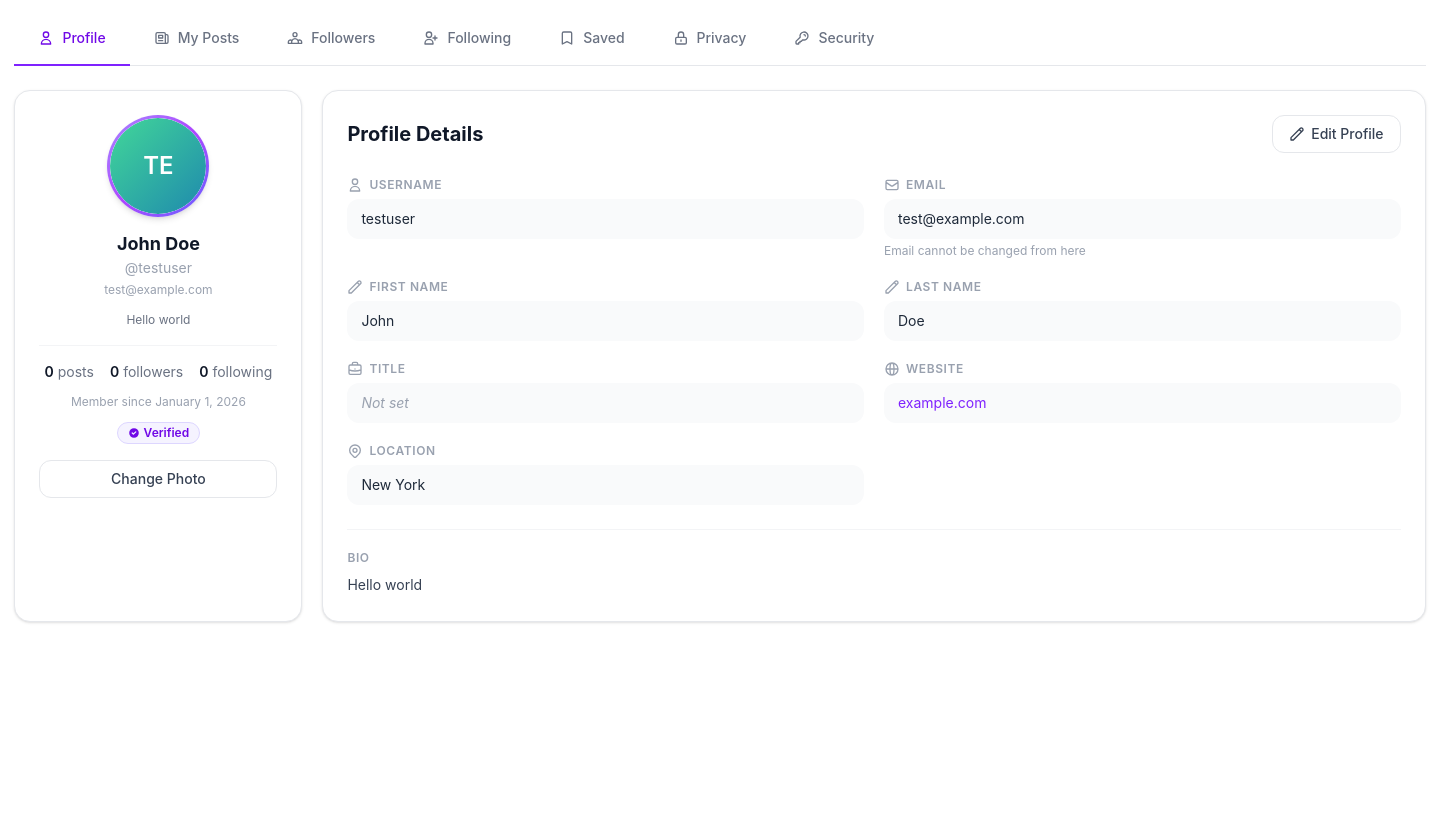
Test case: ProfilePage — own profile (/profile) › Cancel in edit form restores view mode
The image size is (1440, 822).
Click the button "Edit Profile" at (1336, 134), box x1=1272 y1=115 x2=1401 y2=153
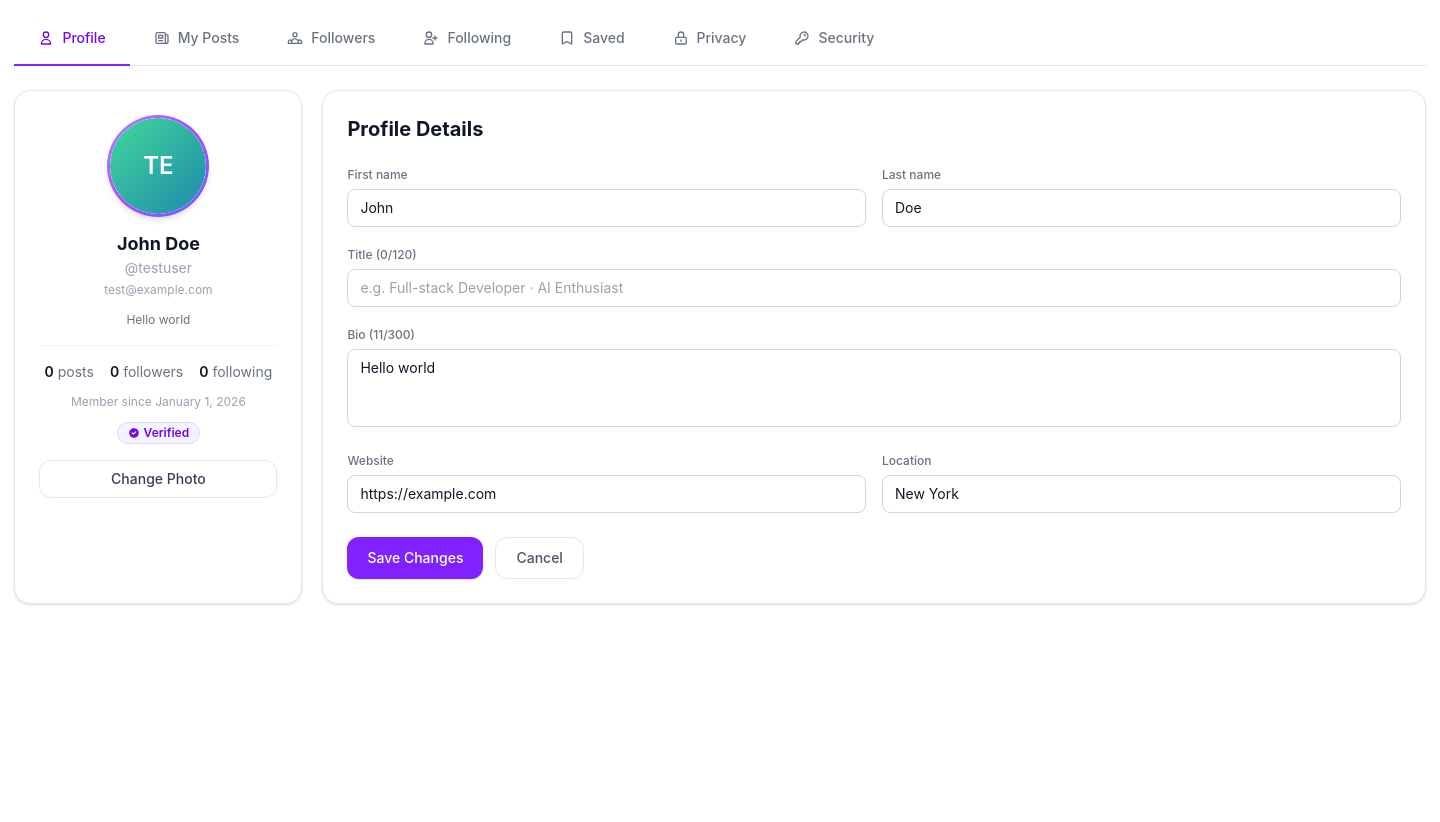
Click the button "Cancel" at (540, 558), box x1=495 y1=537 x2=584 y2=579
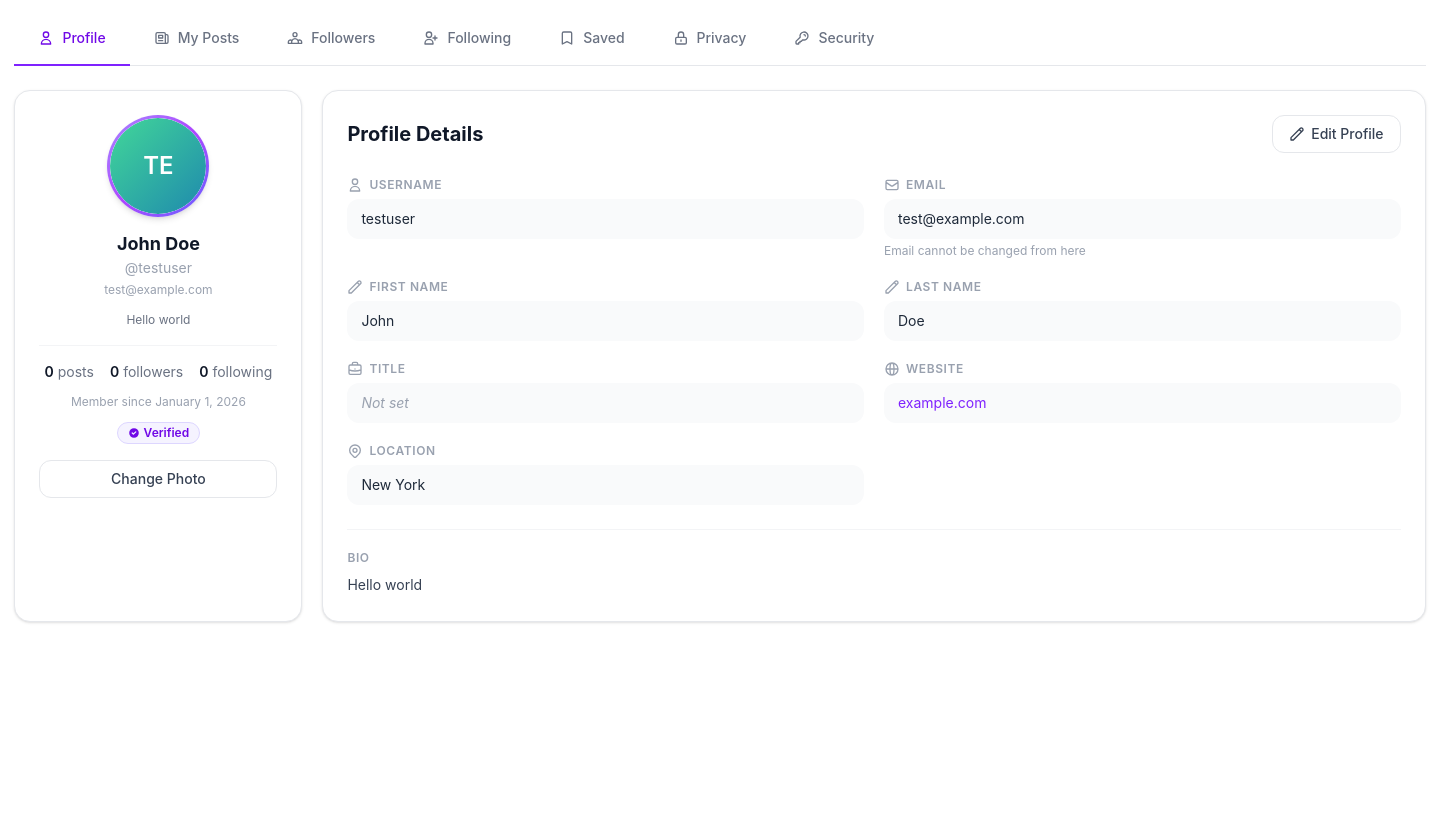
Expected: the button "Edit Profile" is shown, x1=1272 y1=115 x2=1401 y2=153
